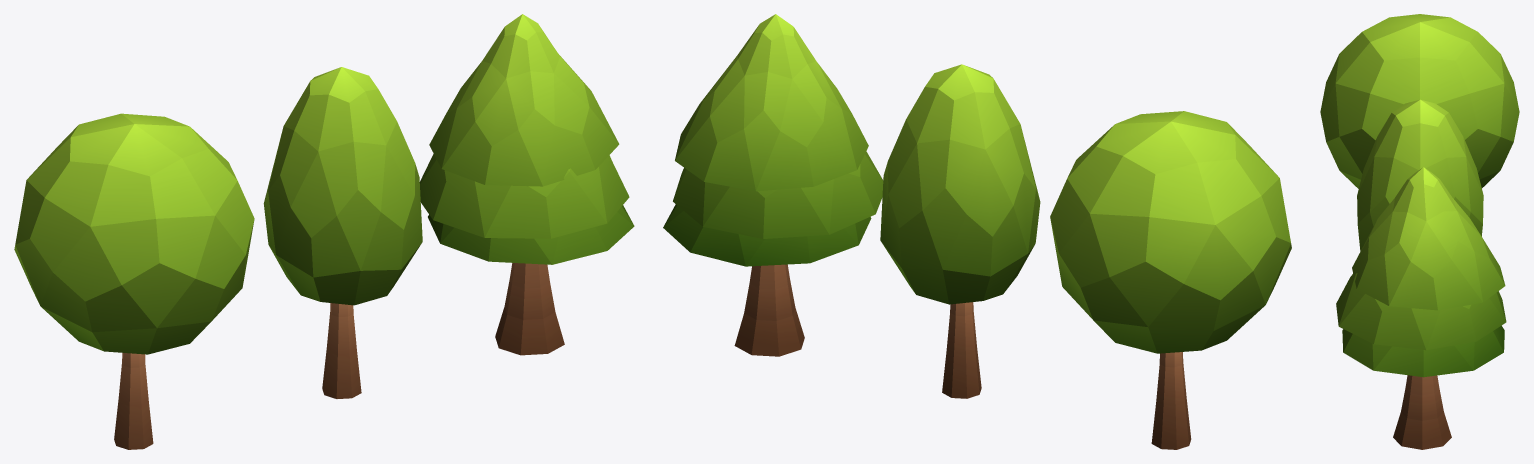
Rendered from LowPolyTrees001.fbx.
3 views of the same model, side by side, from view 1: azimuth 30°, elevation 25°; view 2: azimuth 150°, elevation 25°; view 3: azimuth 270°, elevation 25° (orthographic). The views are drawn at different scales.
Parts seen in each view (by area): view 1: Tree3, Tree1, Tree2; view 2: Tree3, Tree1, Tree2; view 3: Tree1, Tree3, Tree2.
Part boxes in pixels (bbox=[...]): Tree3: bbox=[14, 113, 254, 449]; Tree1: bbox=[419, 14, 634, 355]; Tree2: bbox=[263, 67, 422, 398]; Tree3: bbox=[1050, 111, 1291, 449]; Tree1: bbox=[663, 14, 883, 356]; Tree2: bbox=[880, 64, 1040, 398]; Tree1: bbox=[1336, 167, 1506, 449]; Tree3: bbox=[1320, 14, 1519, 188]; Tree2: bbox=[1357, 99, 1483, 251].
Bounding box in the file's own units: 3556 × 1897 × 1267.
Materials: 1 (1 with a texture image).
